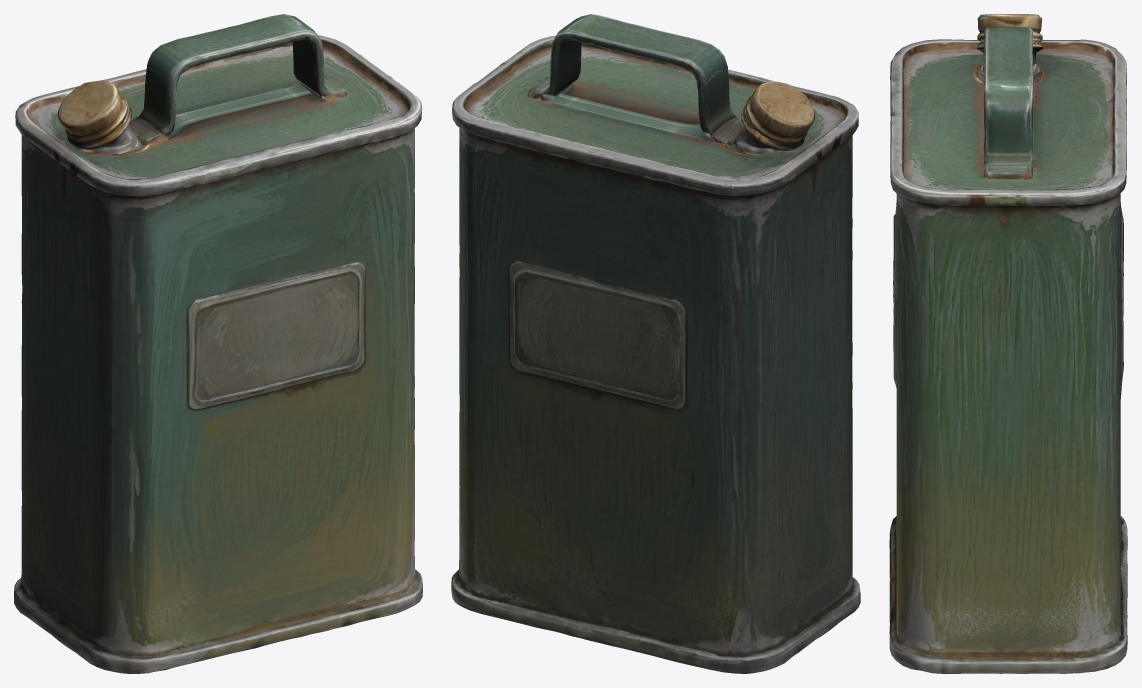
Rendered from Prop_KeroseneCan.fbx.
3 renders of one model, left to right at view 1: azimuth 30°, elevation 25°; view 2: azimuth 150°, elevation 25°; view 3: azimuth 270°, elevation 25°, orthographic. The views are drawn at different scales.
Parts seen in each view (by area): view 1: texture_mapping; view 2: texture_mapping; view 3: texture_mapping.
Boxes of the visible parts, x1,y1,x2,y2 form: texture_mapping: (14, 14, 422, 673); texture_mapping: (451, 14, 860, 673); texture_mapping: (889, 14, 1127, 673).
Bounding box in the file's own units: 0.6137 × 0.3937 × 0.9996.
1 material, 1 textured.
